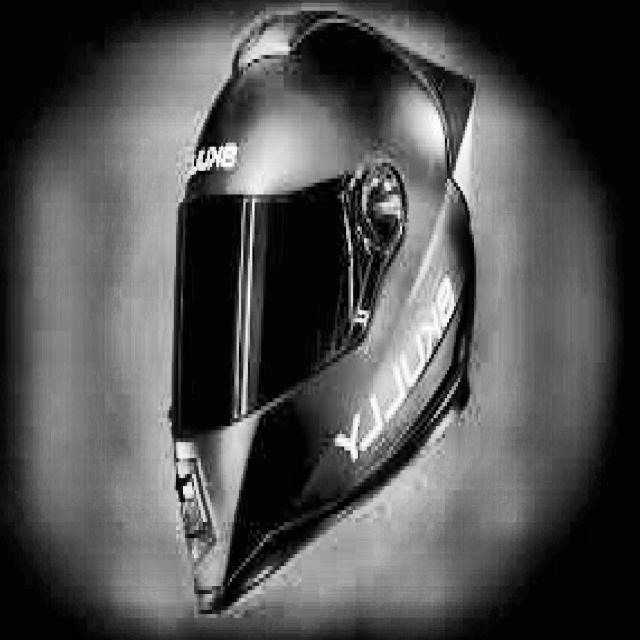Helmet: (142, 17, 482, 627)
